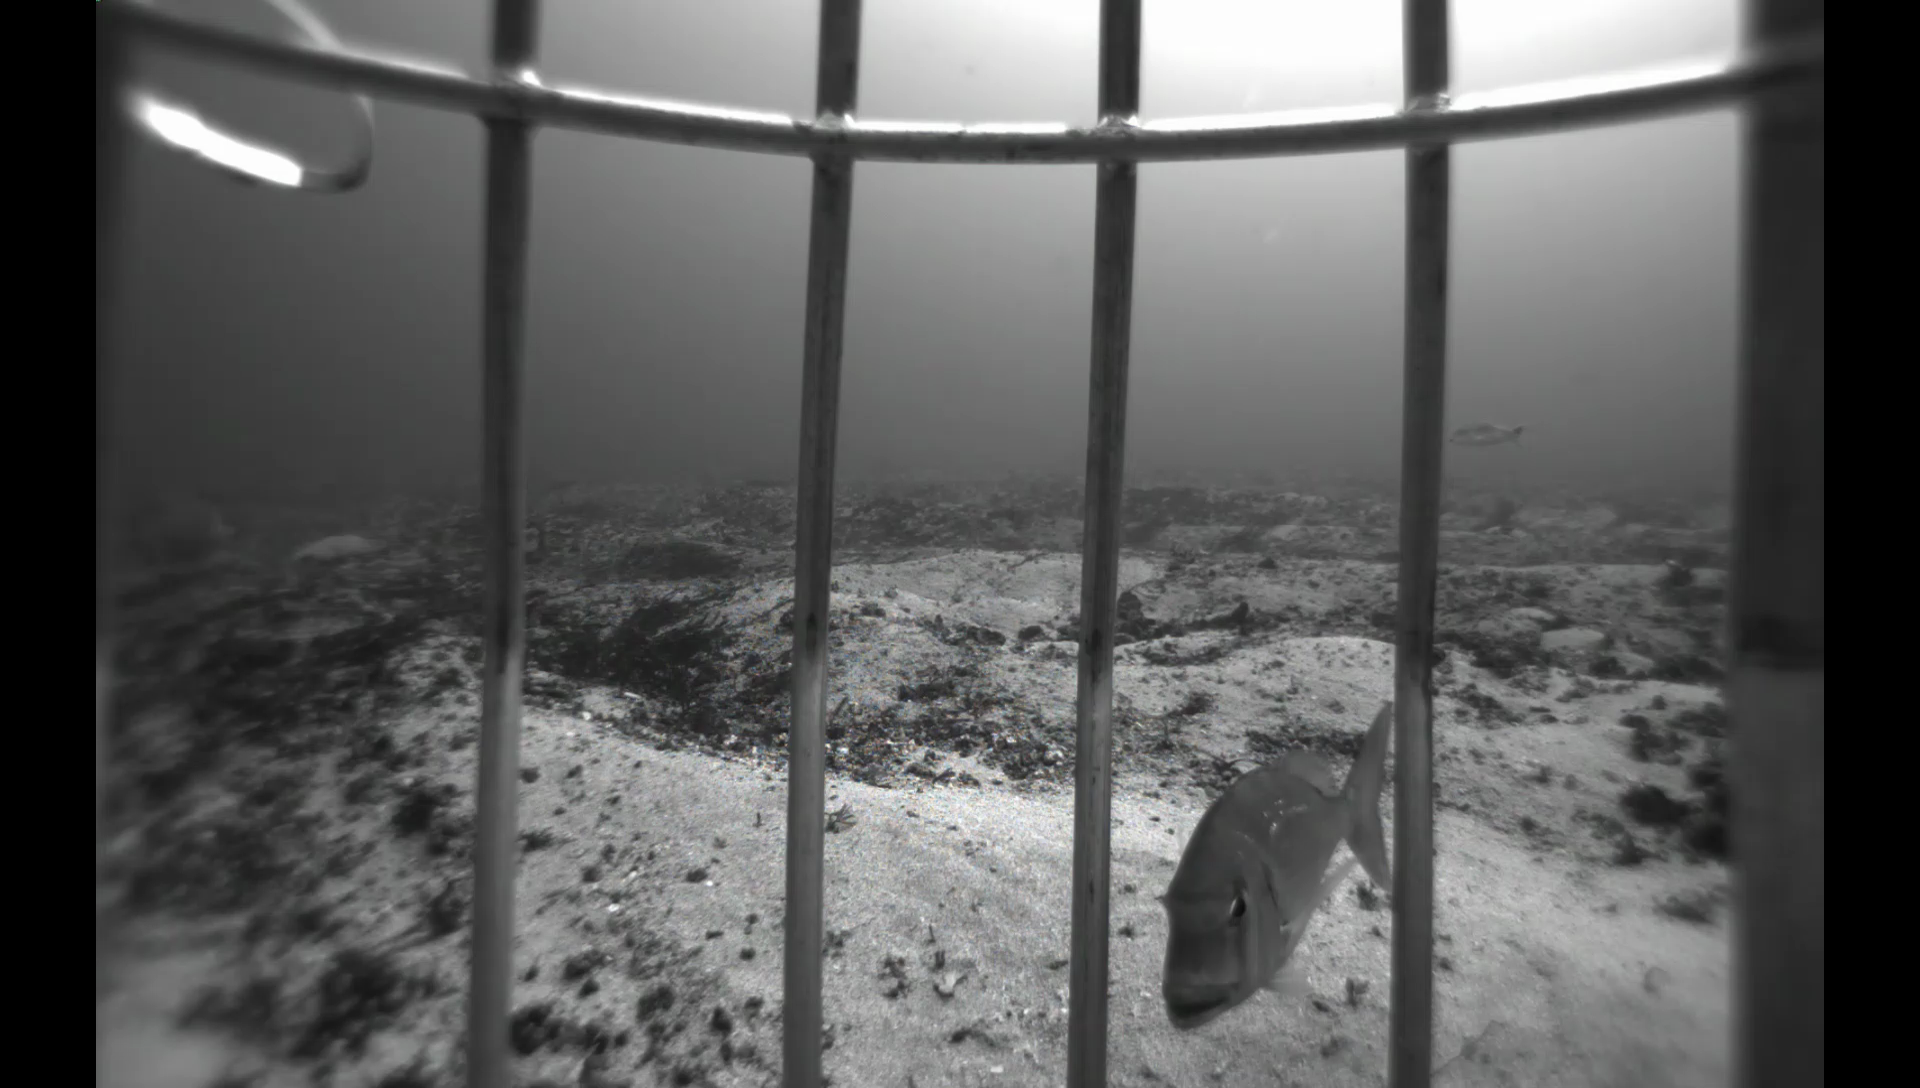MALACANTHUSPLUMIERI-170070301: (1445, 415, 1531, 454)
PAGRUSPAGRUS-170212302: (1164, 698, 1400, 1041)
POMACANTHUSARCUATUS-170290201: (116, 487, 240, 574)
